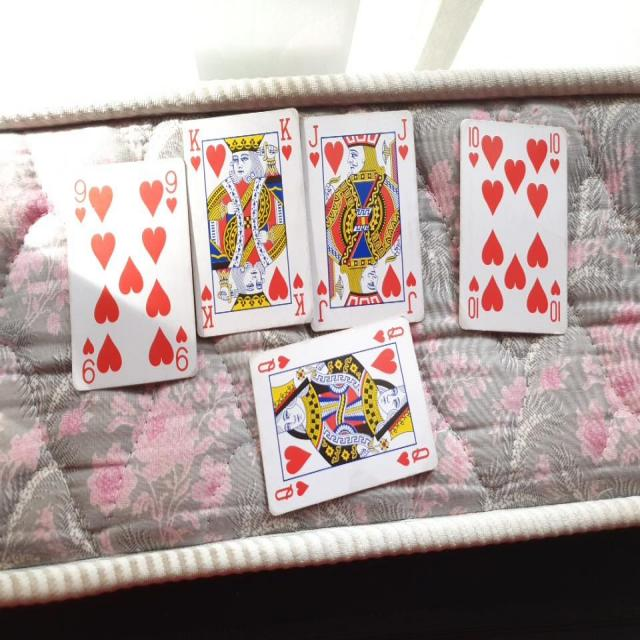10 Hearts: (453, 114, 576, 340)
9 Hearts: (58, 153, 198, 396)
J Hearts: (301, 103, 428, 336)
K Hearts: (181, 105, 313, 340)
Q Hearts: (247, 316, 441, 522)
